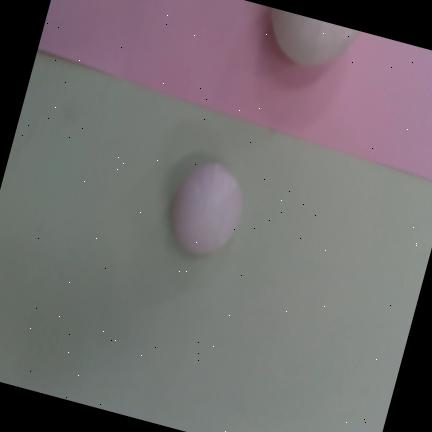Esfera: (170, 161, 242, 255), (271, 7, 359, 65)
